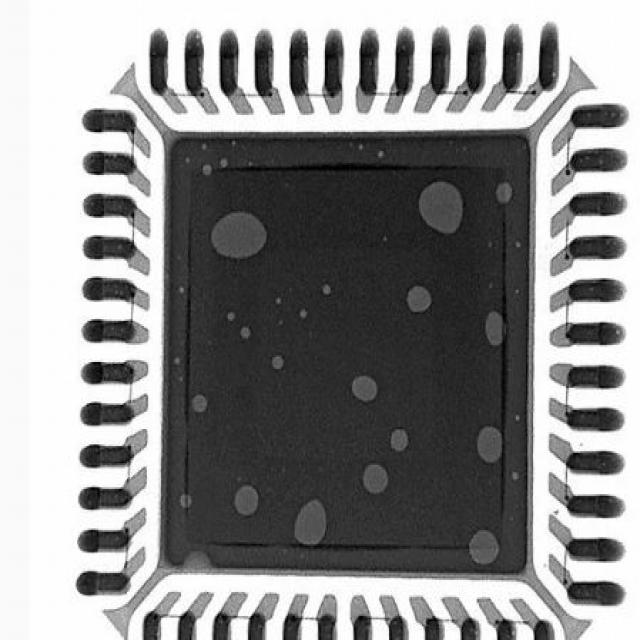component: (167, 134, 529, 574)
void: (211, 213, 268, 258), (419, 180, 465, 234), (295, 501, 328, 547), (470, 532, 500, 567), (479, 427, 503, 464), (363, 465, 389, 495), (234, 486, 259, 517), (352, 376, 379, 404), (486, 312, 505, 347), (409, 287, 433, 313), (391, 429, 409, 453), (496, 182, 515, 204), (191, 395, 208, 414), (180, 494, 192, 510), (241, 326, 252, 341), (272, 357, 284, 370), (322, 283, 332, 296), (299, 309, 309, 320), (202, 165, 212, 176), (227, 312, 237, 322), (220, 158, 228, 167)
